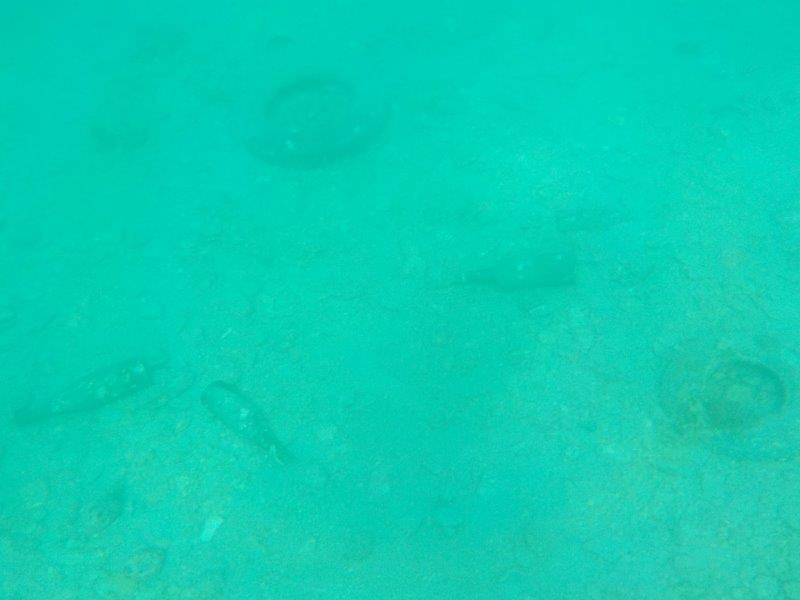bottle: (12, 351, 157, 428), (196, 375, 297, 470), (447, 240, 583, 298)
tire: (648, 322, 800, 469), (226, 53, 399, 165)
